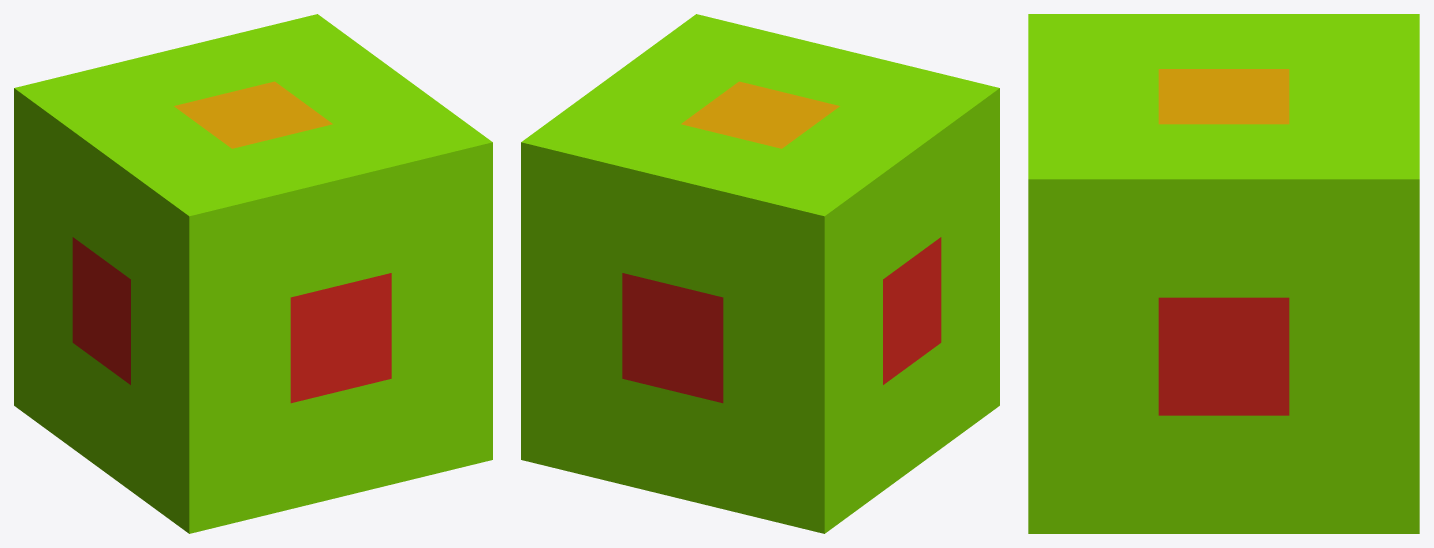
3 views of the same model, side by side, from view 1: azimuth 30°, elevation 25°; view 2: azimuth 150°, elevation 25°; view 3: azimuth 270°, elevation 25° (orthographic). The views are drawn at different scales.
Visible parts, largest first — view 1: Cube; view 2: Cube; view 3: Cube.
Part boxes in pixels (x1=…): Cube: x1=14, y1=14, x2=492, y2=533; Cube: x1=521, y1=14, x2=999, y2=533; Cube: x1=1028, y1=14, x2=1419, y2=533.
Bounding box in the file's own units: 2 × 2 × 2.
